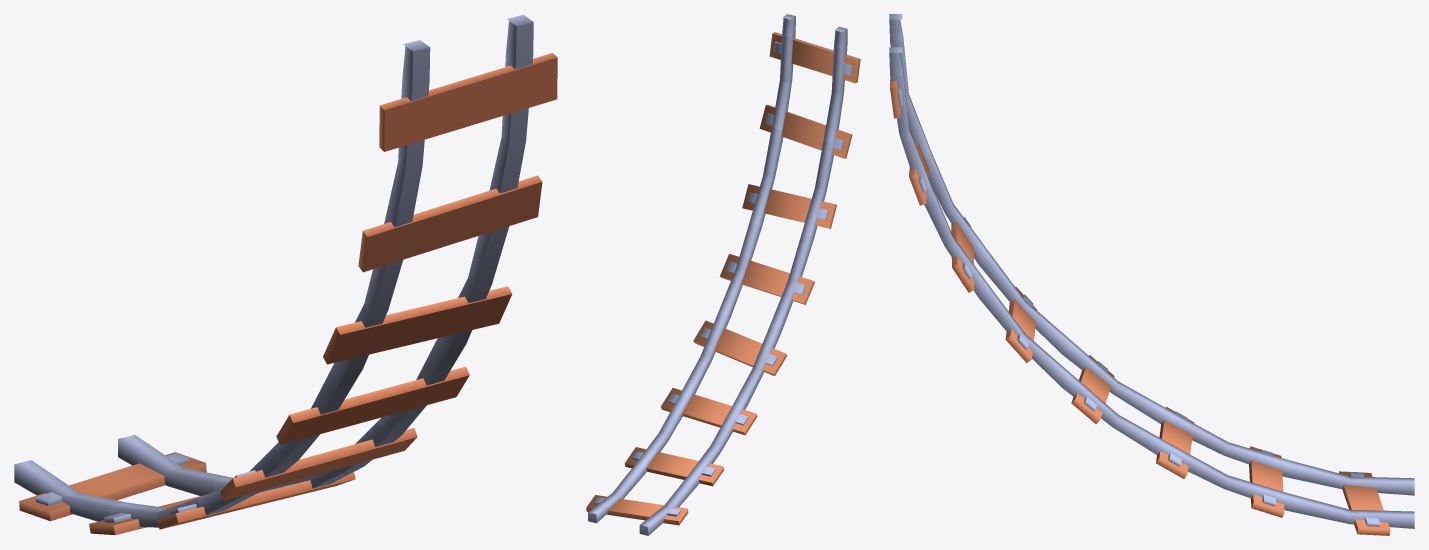
The model's file is kenney-train-railroad-damaged-straight-bend-large.glb.
3 renders of one model, left to right at view 1: azimuth 30°, elevation 25°; view 2: azimuth 150°, elevation 25°; view 3: azimuth 270°, elevation 25°, orthographic. The views are drawn at different scales.
Parts seen in each view (by area): view 1: railroad-damaged-straight-bend-large; view 2: railroad-damaged-straight-bend-large; view 3: railroad-damaged-straight-bend-large.
Boxes of the visible parts, x1=… form: railroad-damaged-straight-bend-large: x1=14, y1=15, x2=557, y2=535; railroad-damaged-straight-bend-large: x1=586, y1=14, x2=860, y2=535; railroad-damaged-straight-bend-large: x1=889, y1=14, x2=1414, y2=535.
Size of the model in its own units: 1.03 by 4 by 4.
1 material, 1 textured.
